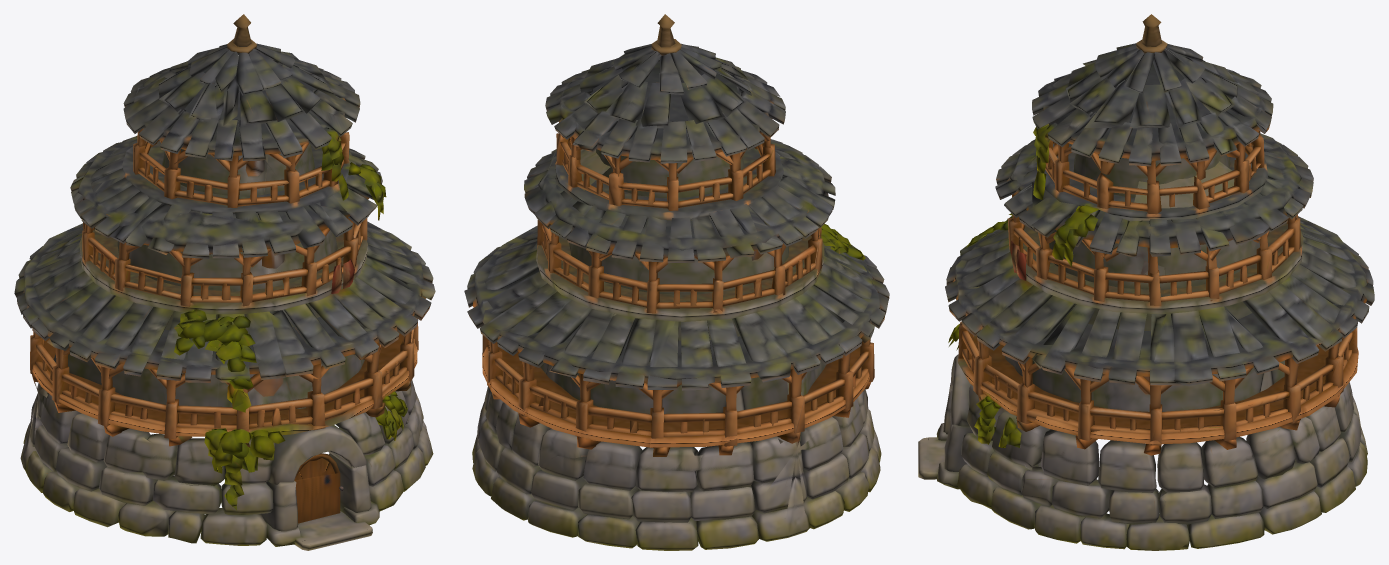
File: torre_verde_sumicio.glb
The picture shows the model from 3 angles, left to right: view 1: azimuth 30°, elevation 25°; view 2: azimuth 150°, elevation 25°; view 3: azimuth 270°, elevation 25°; orthographic projection. The views are drawn at different scales.
Parts seen in each view (by area): view 1: geometry_0; view 2: geometry_0; view 3: geometry_0.
Boxes of the visible parts, box(x1,y1,x2,y2) form: geometry_0: box(14, 14, 435, 550); geometry_0: box(464, 14, 889, 550); geometry_0: box(918, 14, 1374, 550).
Size of the model in its own units: 0.8644 by 1 by 0.9071.
Materials: 1 (1 with a texture image).
